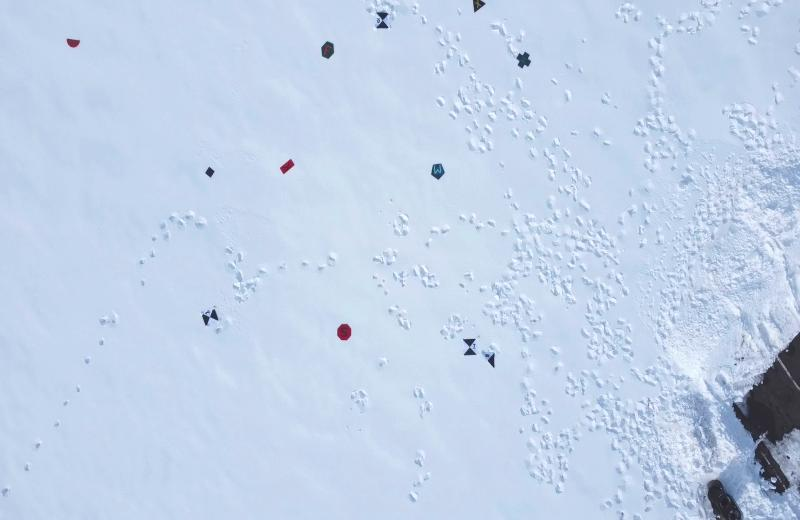Cross: (516, 51, 533, 69)
Hexagon: (320, 41, 336, 60)
Octagon: (336, 323, 352, 341)
Pentagon: (431, 162, 444, 180)
Rectangle: (279, 158, 295, 174)
Semi Circle: (66, 38, 82, 48)
Square: (204, 166, 216, 179)
Triangle: (470, 0, 487, 15)
